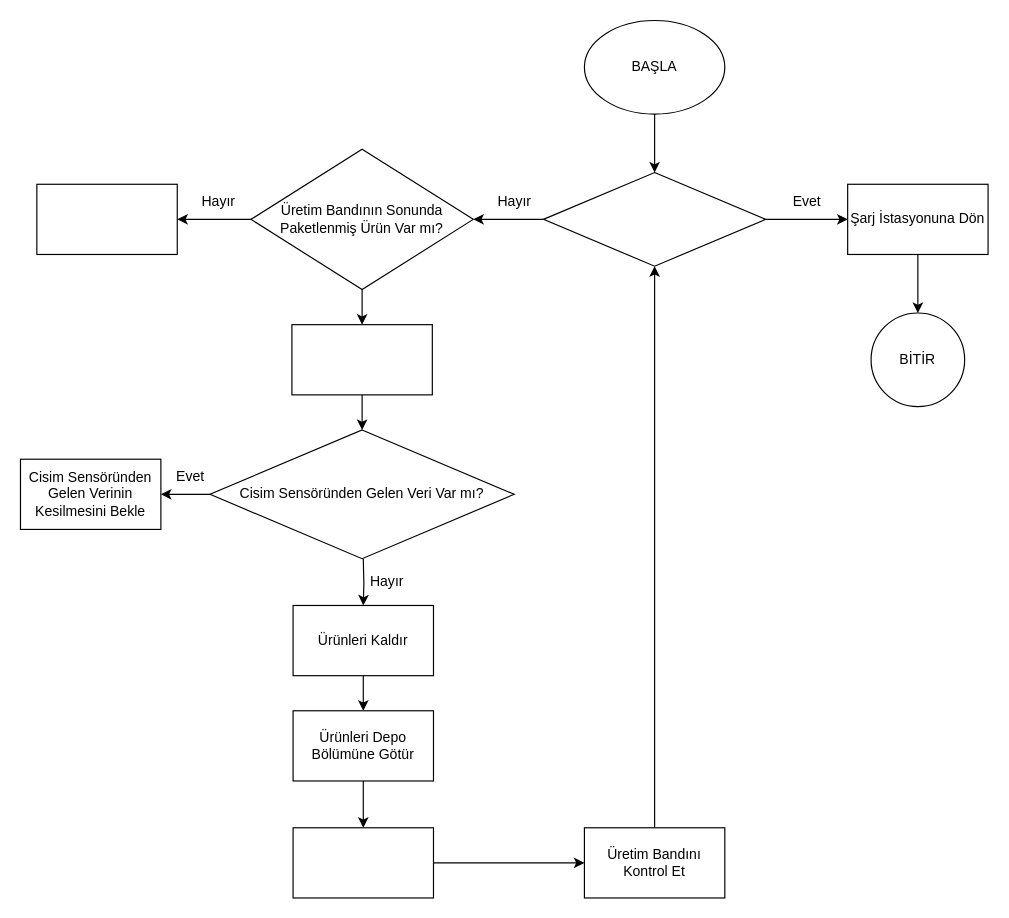
Image size: 1009x918. Some labels were removed from this diagram. The shapes that lost their labels are listed below. From the top down, each one's box as (x1, y1, x2, y2) in pixels, then its label:
(36, 183, 177, 254): Fabrikada Dolaşmaya Devam Et
(542, 171, 766, 266): Batarya %3'ün altında mı?
(291, 324, 432, 395): Paketlenmiş Olan Ürünlerin Yanına Git
(292, 827, 433, 898): Depo Bölümüne Ürünleri Bırak
